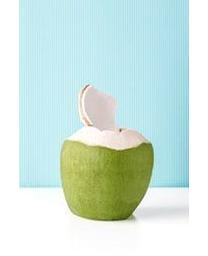coconut: (60, 126, 155, 221)
